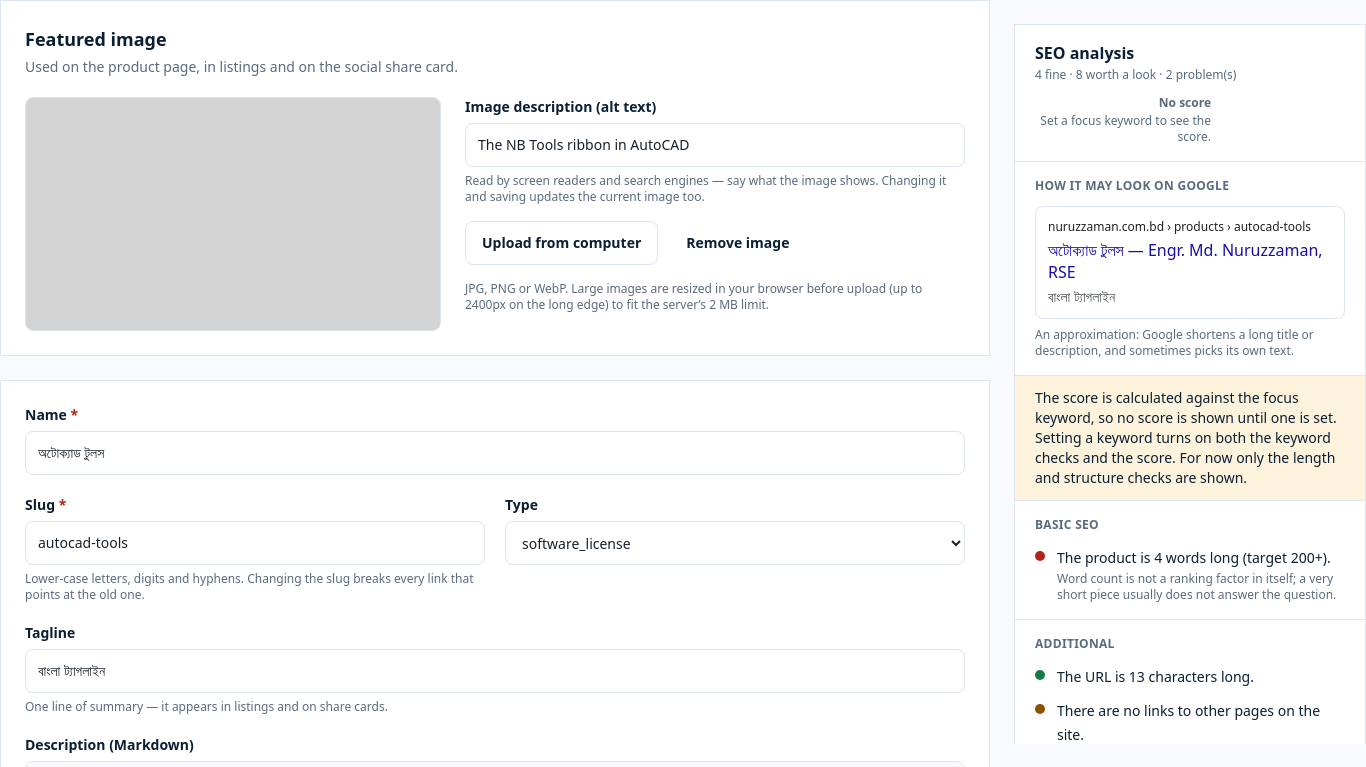
Test: ProductEditor › recalculates the analysis as the featured image changes
// Emptying the description is reflected before anything is saved.
Clear the field labelled "Image description (alt text)": {"x": 715, "y": 145} [465,123,965,167]
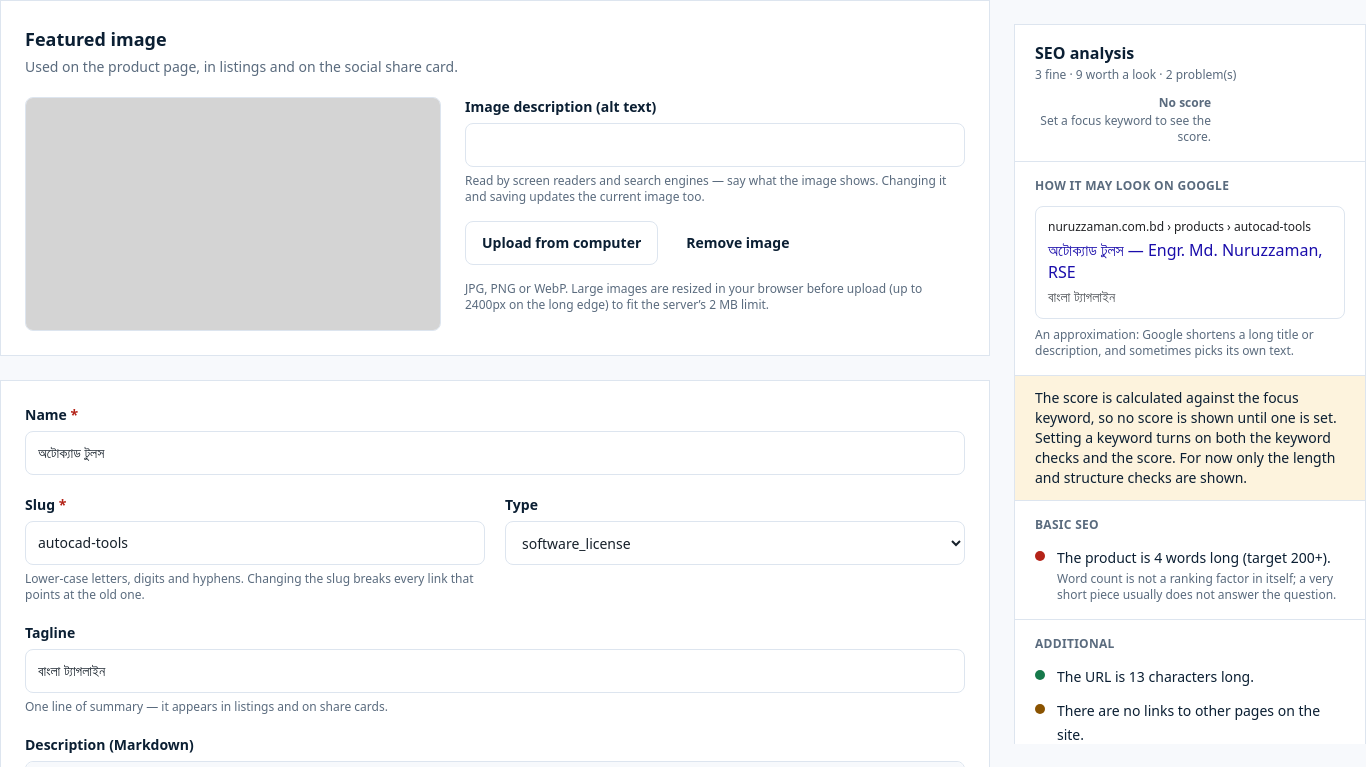
Click the button "Remove image": {"x": 738, "y": 243} [670,221,805,265]
(page scrolled)
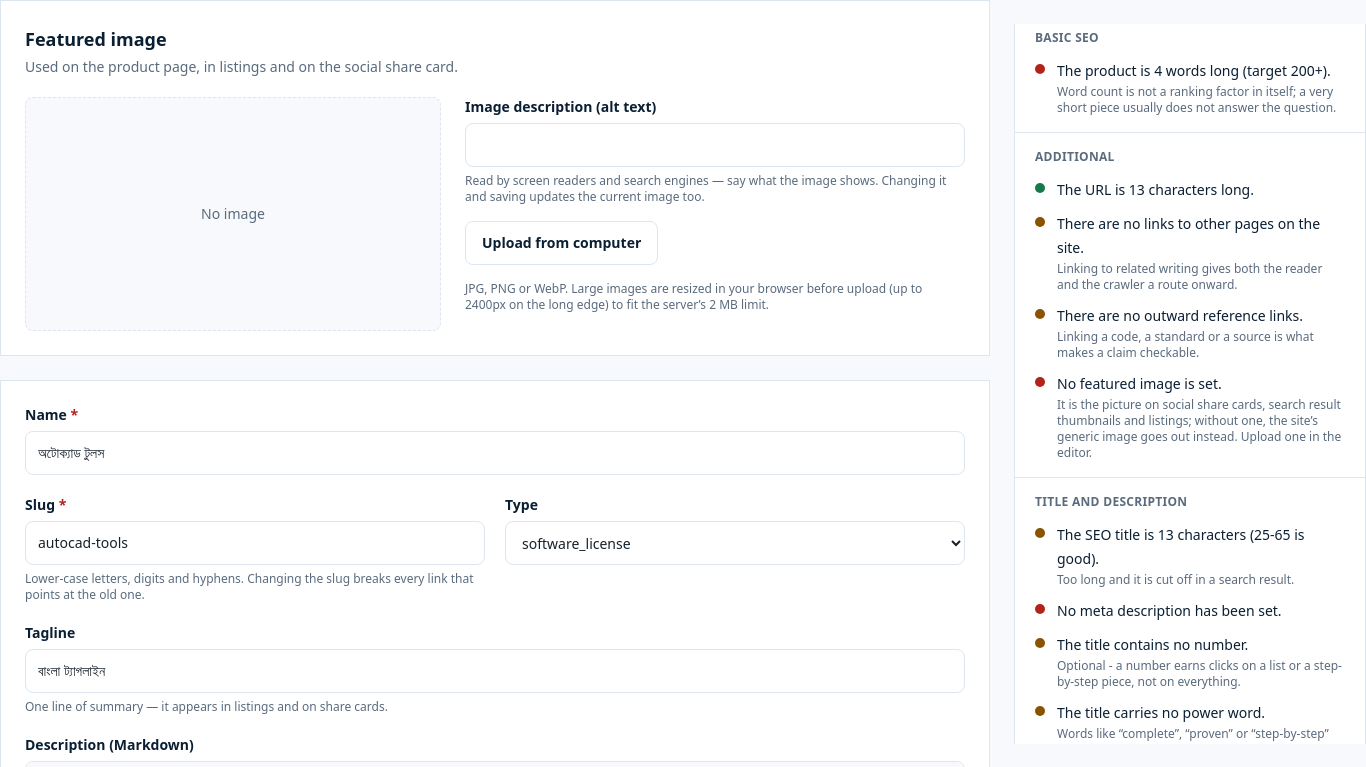
Check: the text "No featured image is set." is shown, box [1057,374,1222,393]
